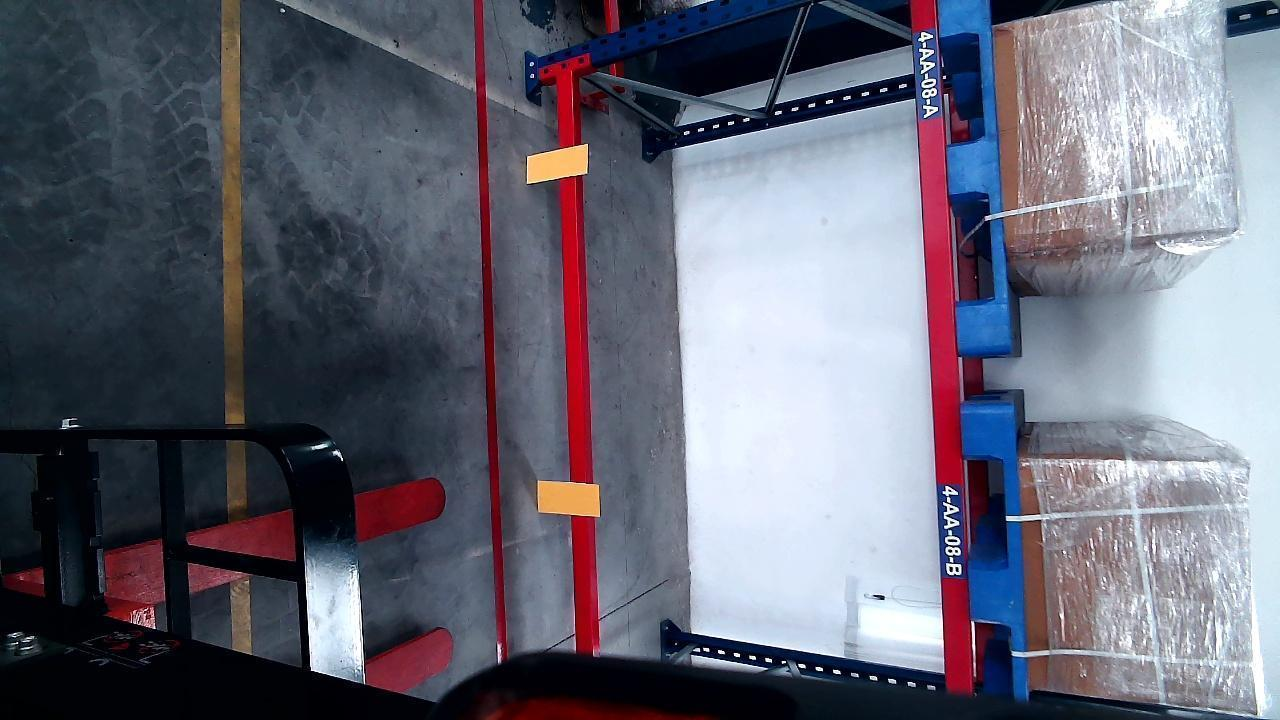red_line: (474, 0, 508, 669)
yellow_line: (220, 1, 246, 417)
